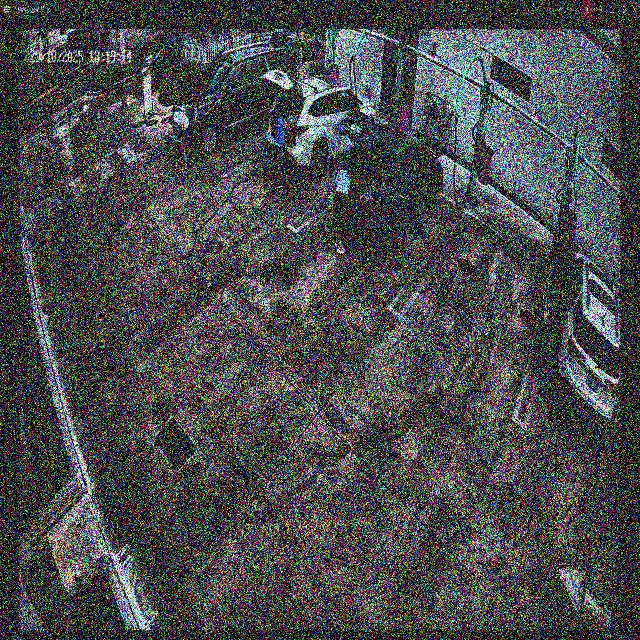Car: (334, 116, 442, 254), (171, 45, 297, 155), (263, 68, 377, 177)
